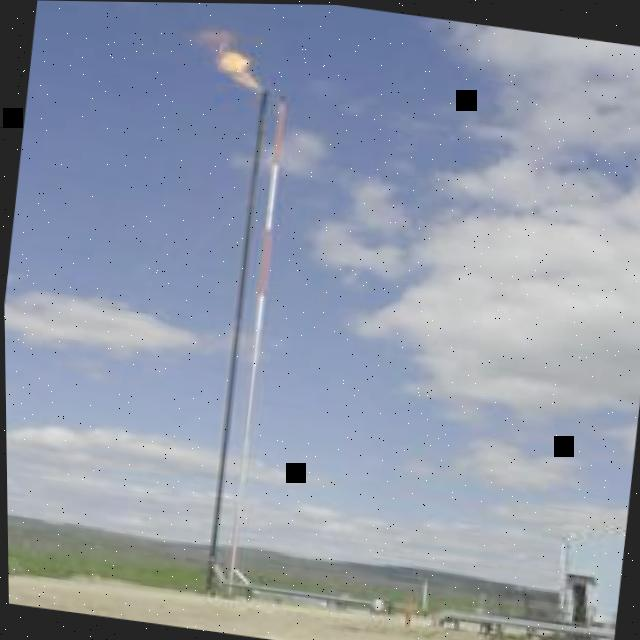fire: (199, 30, 263, 90)
